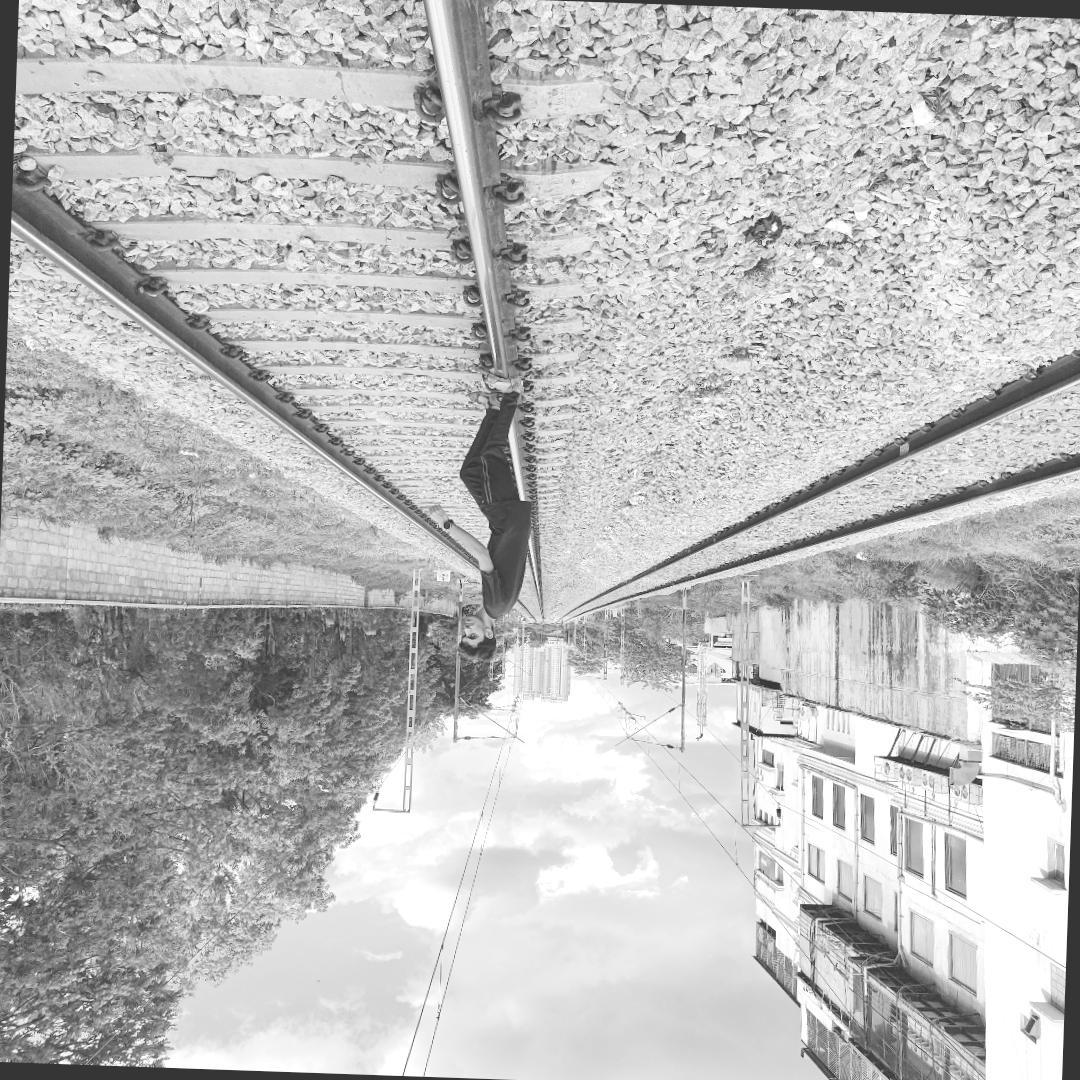standing: (416, 355, 542, 664)
